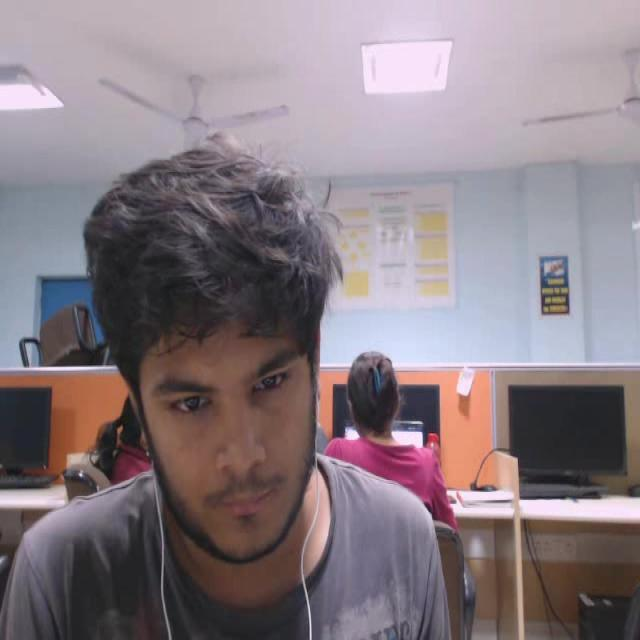Engaged: (68, 115, 390, 610)
